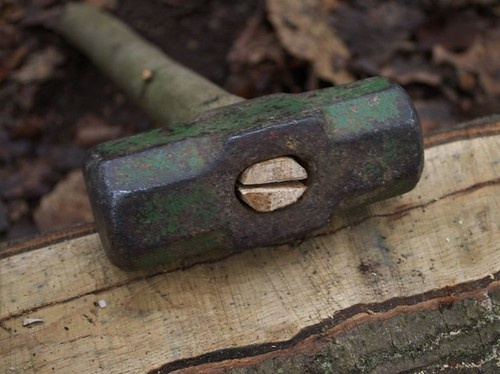hammer: (48, 7, 427, 272)
